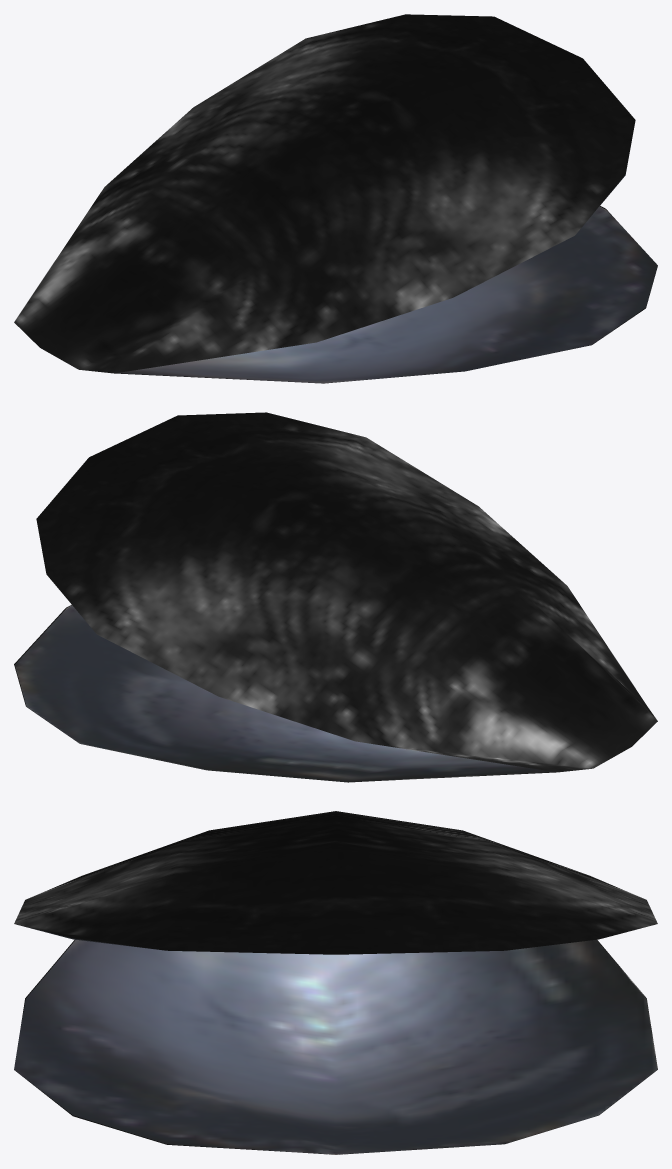
The model's file is musselOpen.fbx.
The picture shows the model from 3 angles, top to bottom: view 1: azimuth 30°, elevation 25°; view 2: azimuth 150°, elevation 25°; view 3: azimuth 270°, elevation 25°; orthographic projection. The views are drawn at different scales.
Visible parts, largest first — view 1: musselOpenObject; view 2: musselOpenObject; view 3: musselOpenObject.
Part boxes in pixels (bbox=[...]): musselOpenObject: bbox=[14, 14, 657, 383]; musselOpenObject: bbox=[14, 412, 657, 782]; musselOpenObject: bbox=[14, 811, 657, 1154].
Bounding box in the file's own units: 0.1213 × 0.0472 × 0.0999.
Materials: 1 (1 with a texture image).
